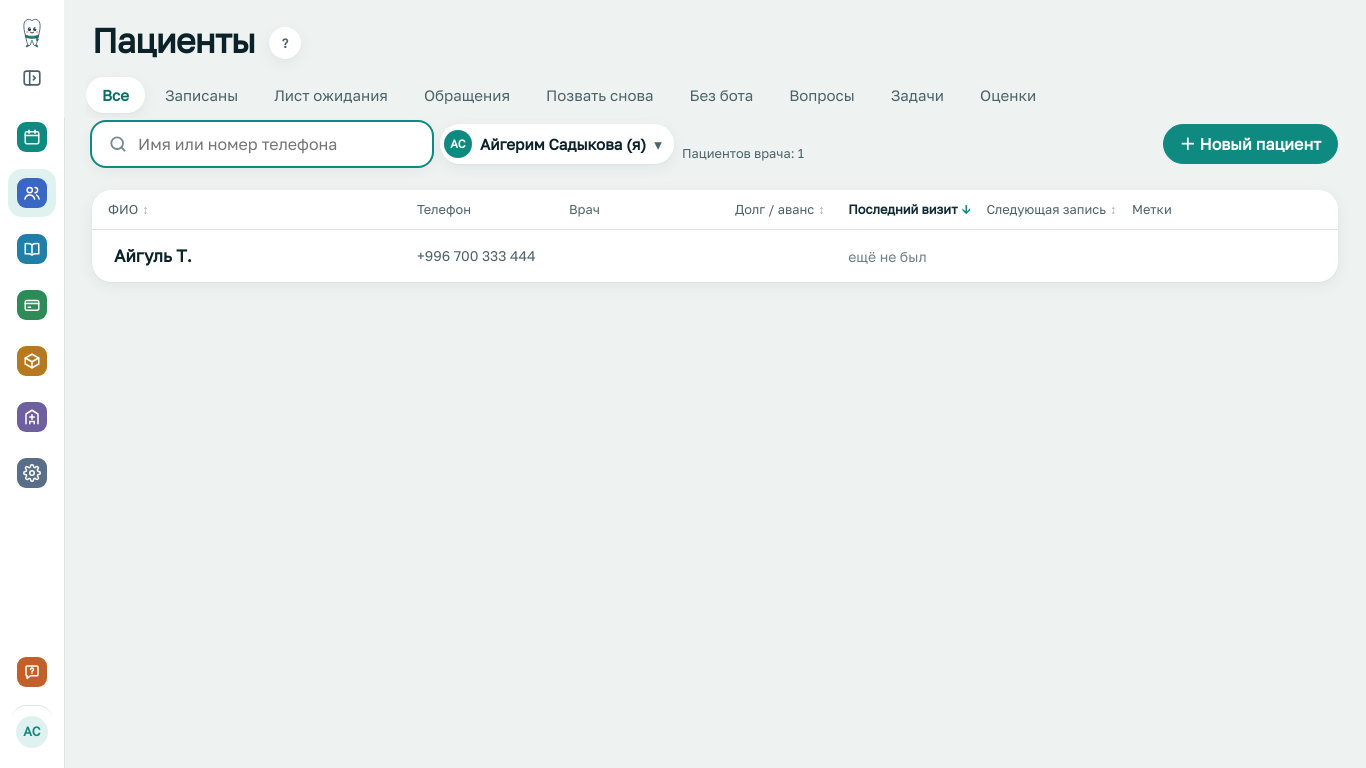
Scenario: медкарта: анкета с плашкой — отметить болезнь и сохранить
Click the button "Айгуль Т." at (153, 256), box left=114, top=243, right=192, bottom=269
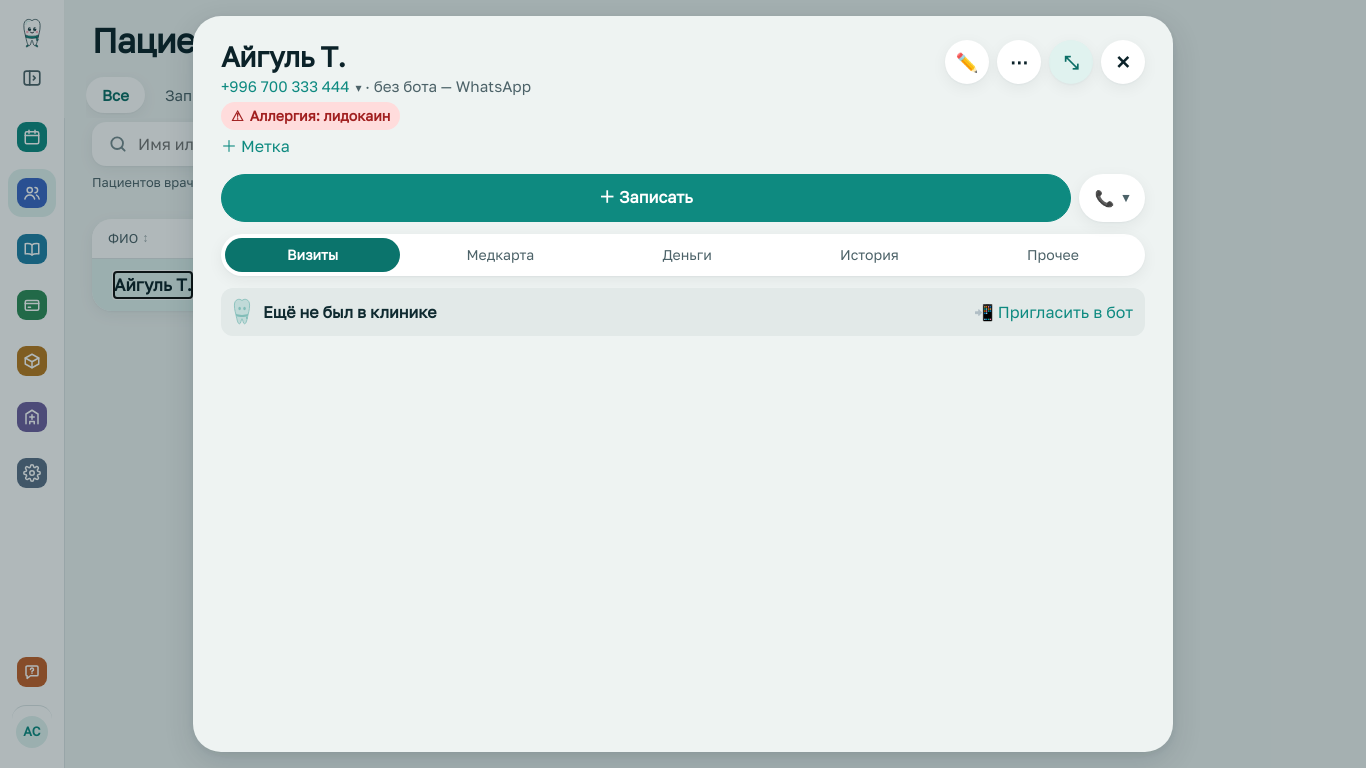
Check: the button with aria-label "Важно перед лечением" reads "⚠ Аллергия: лидокаин", box left=221, top=102, right=400, bottom=130
Check: the header named "Важно перед лечением" is shown, box left=221, top=38, right=1145, bottom=162
Click the tab "Медкарта" at (500, 255), box left=404, top=238, right=596, bottom=272
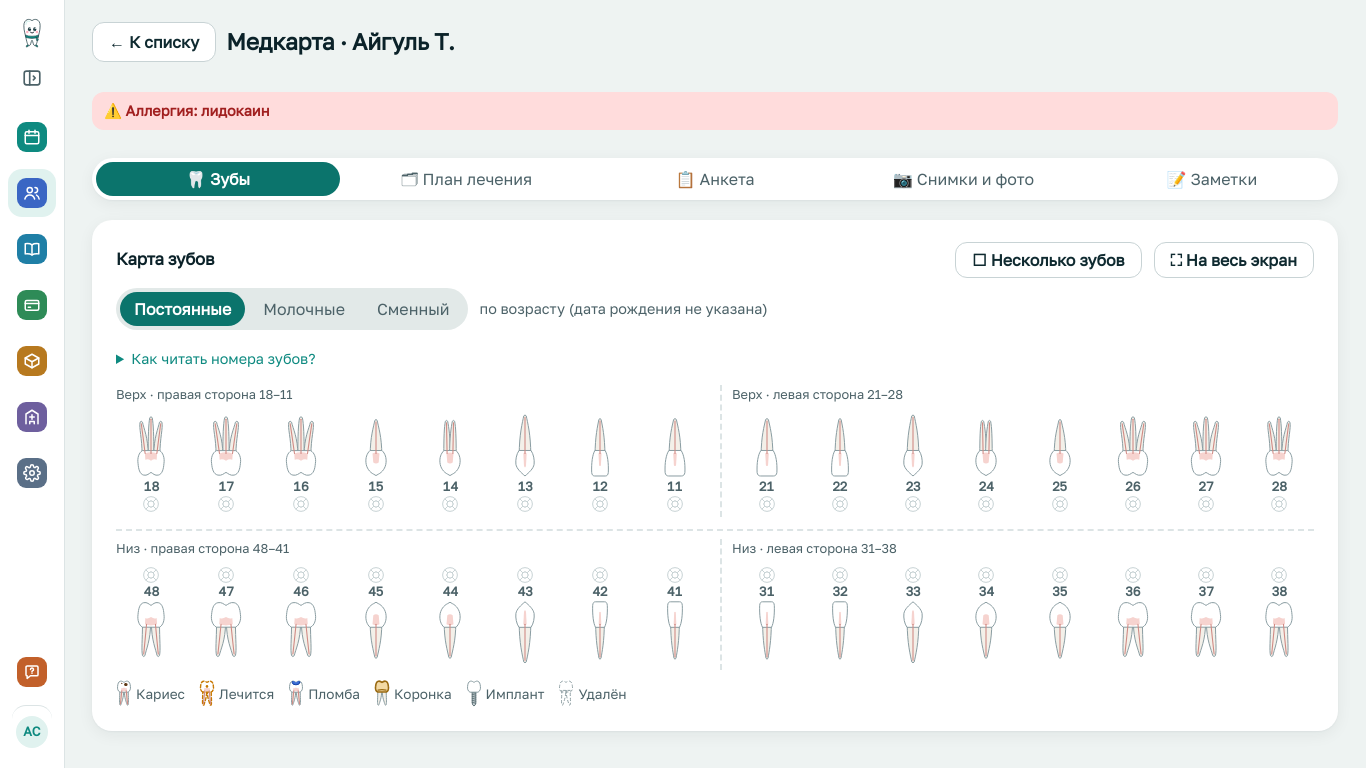
Click the tab "📋 Анкета" at (715, 179), box left=593, top=162, right=837, bottom=196
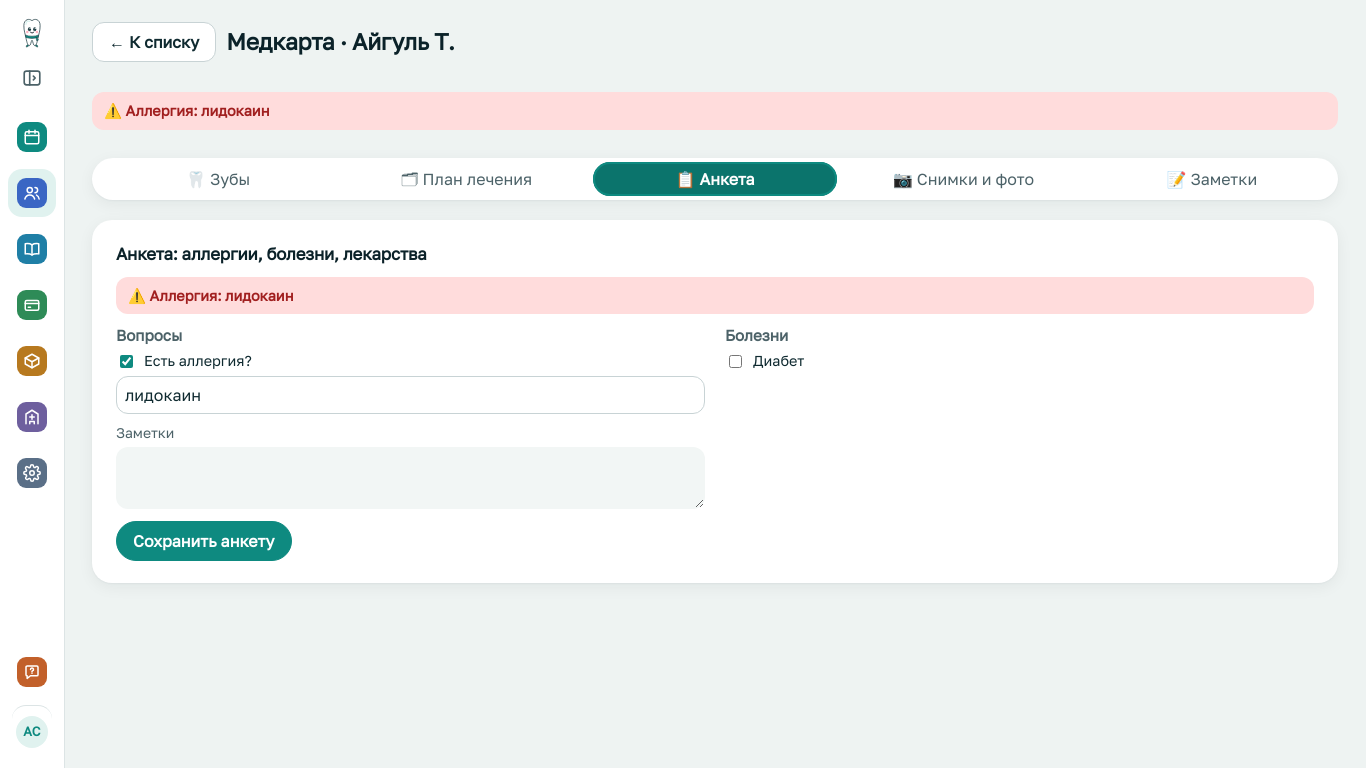
Check: the field named "Есть аллергия? — что именно" holds "лидокаин", box left=116, top=376, right=705, bottom=414
Click the checkbox labelled "Диабет" at (736, 361), box left=729, top=355, right=742, bottom=368
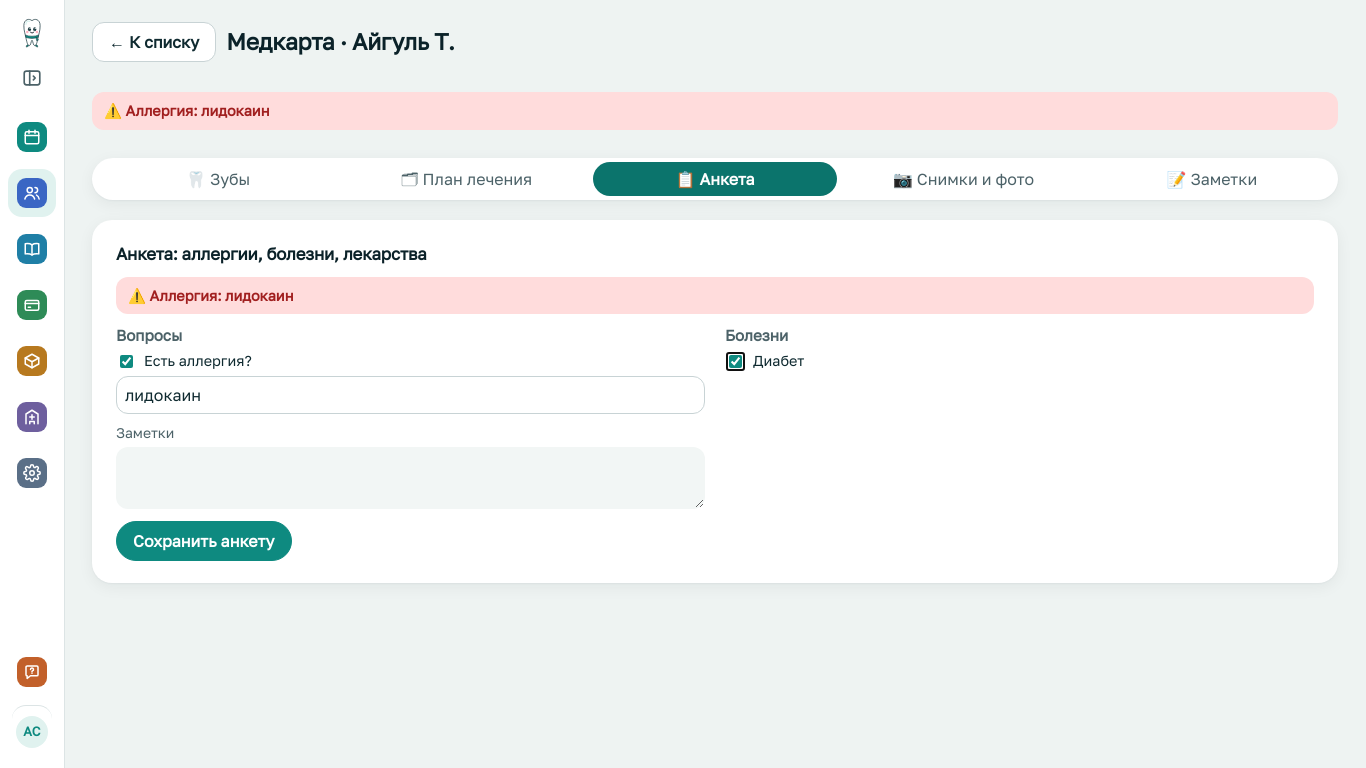
Type "боится уколов" into the text box labelled "Заметки" at (410, 478), box left=116, top=447, right=705, bottom=509
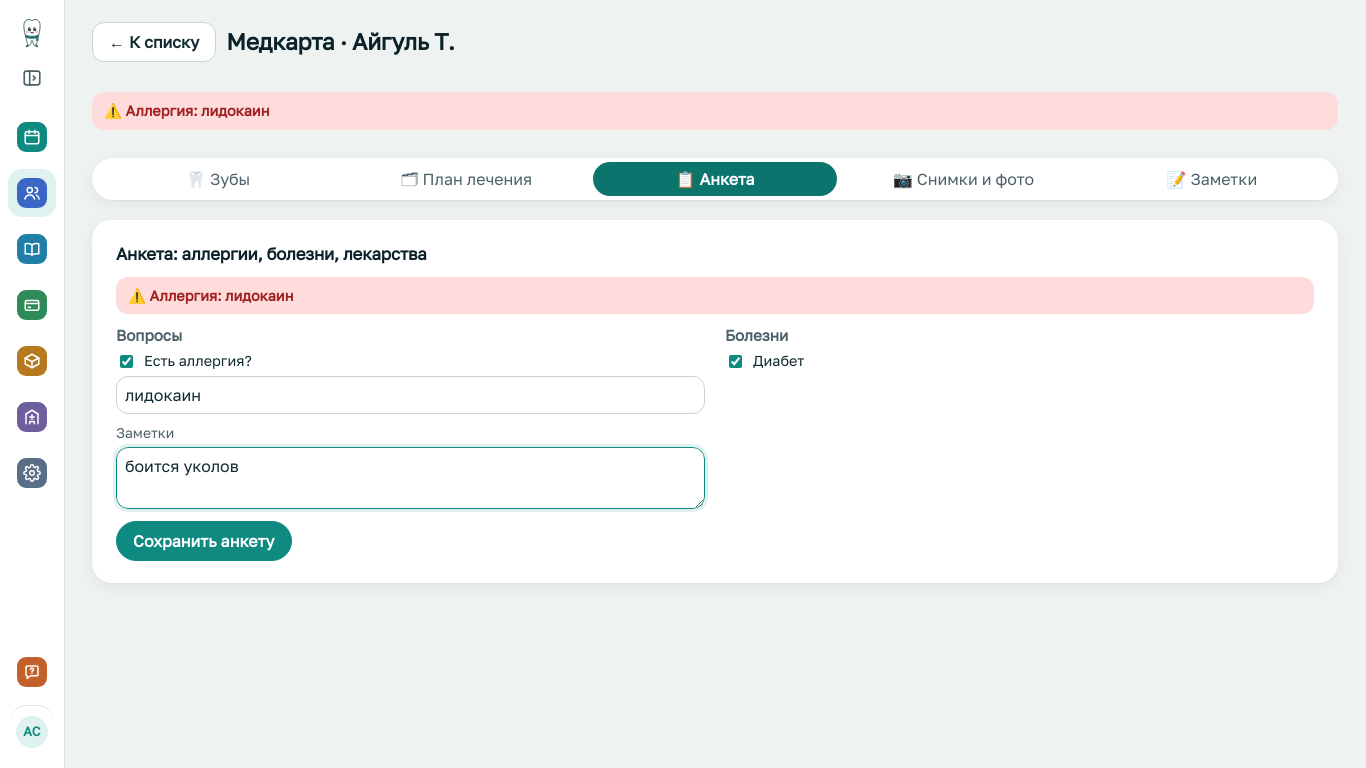
Click the button "Сохранить анкету" at (204, 541), box left=116, top=521, right=292, bottom=561
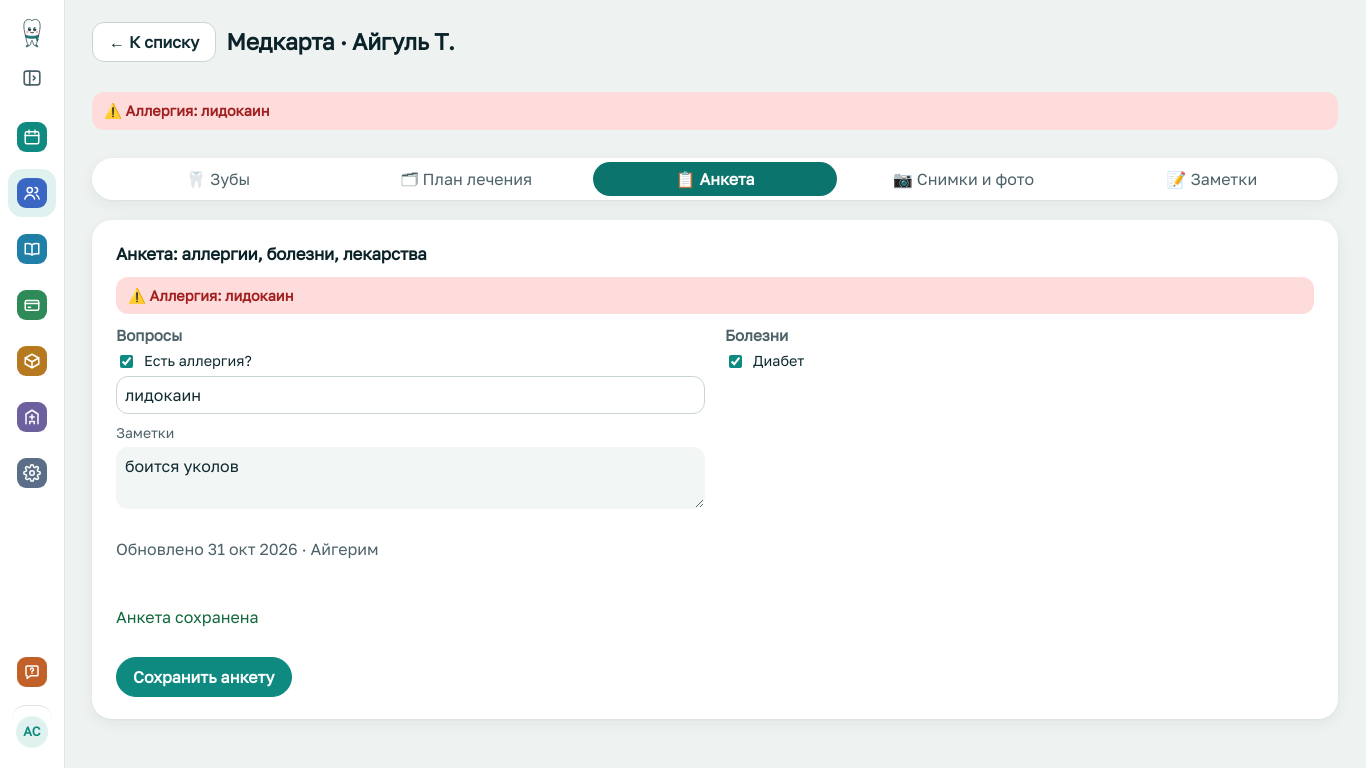
Check: the text "Анкета сохранена" is shown, box left=116, top=607, right=259, bottom=627
